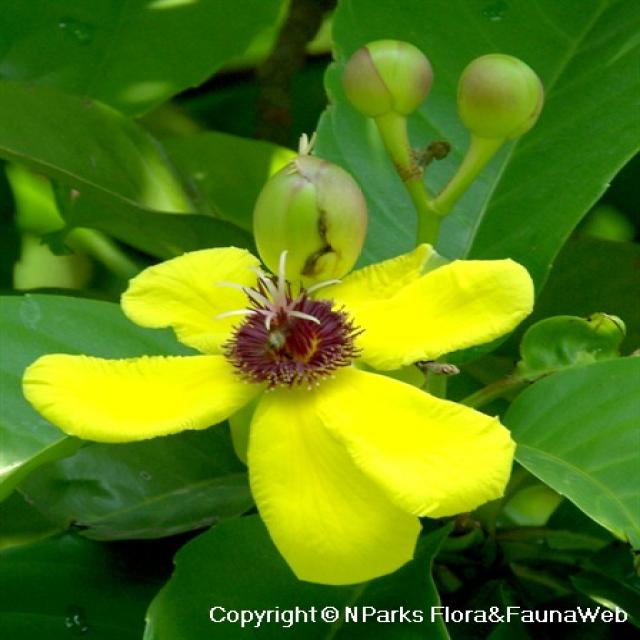Simpoh-Lak: (20, 244, 536, 586), (242, 136, 368, 286), (331, 36, 440, 125), (451, 51, 550, 147)
